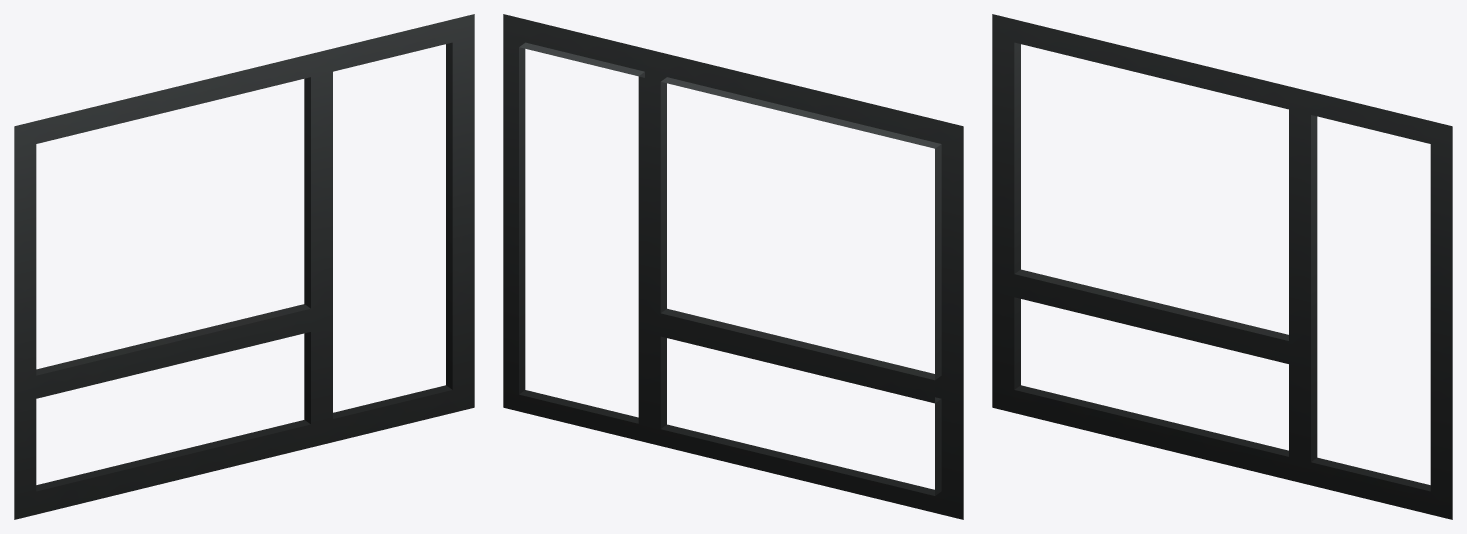
Rendered from Wall_3m_A_Window_B_Frame_C.fbx.
The picture shows the model from 3 angles, left to right: view 1: azimuth 30°, elevation 25°; view 2: azimuth 150°, elevation 25°; view 3: azimuth 330°, elevation 25°; orthographic projection.
Parts seen in each view (by area): view 1: Wall_3m_A_Window_B_Frame_C; view 2: Wall_3m_A_Window_B_Frame_C; view 3: Wall_3m_A_Window_B_Frame_C.
Part boxes in pixels (x1,y1,x2,y2): Wall_3m_A_Window_B_Frame_C: (14, 14, 474, 519); Wall_3m_A_Window_B_Frame_C: (503, 14, 963, 519); Wall_3m_A_Window_B_Frame_C: (992, 14, 1452, 519).
Bounding box in the file's own units: 208 × 170 × 5.
